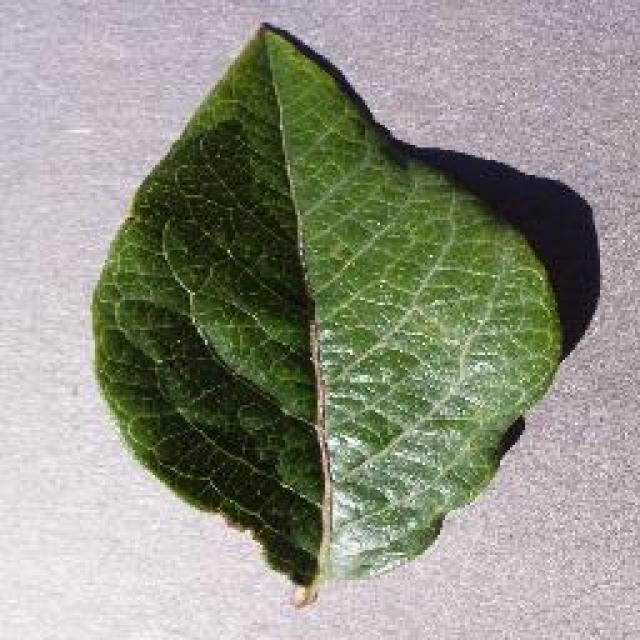Blu_healthy: (116, 131, 546, 519)
